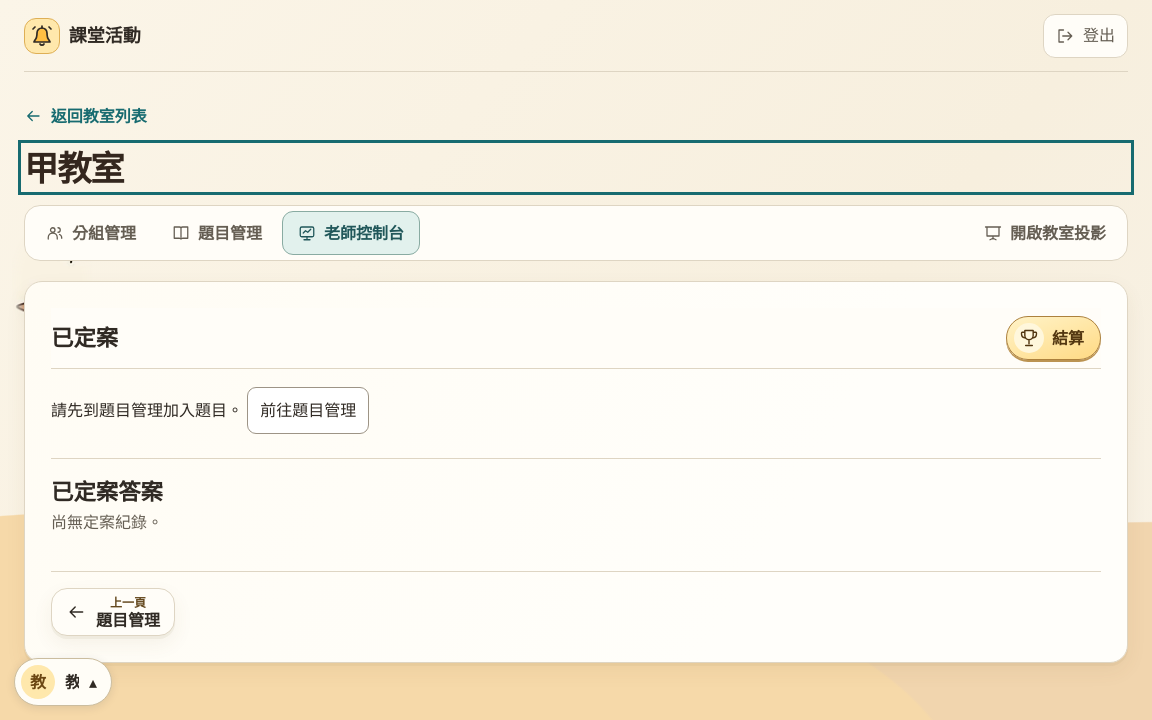
Scenario: Google 回填中不能換場，拒絕編輯後提示權限並保留結算
Later steps or results of the test are not shown.
What coordinates should you click on to do the following:
click the button "結算"
I would click on:
 (1054, 338)
Its box is [1006,316,1101,360].
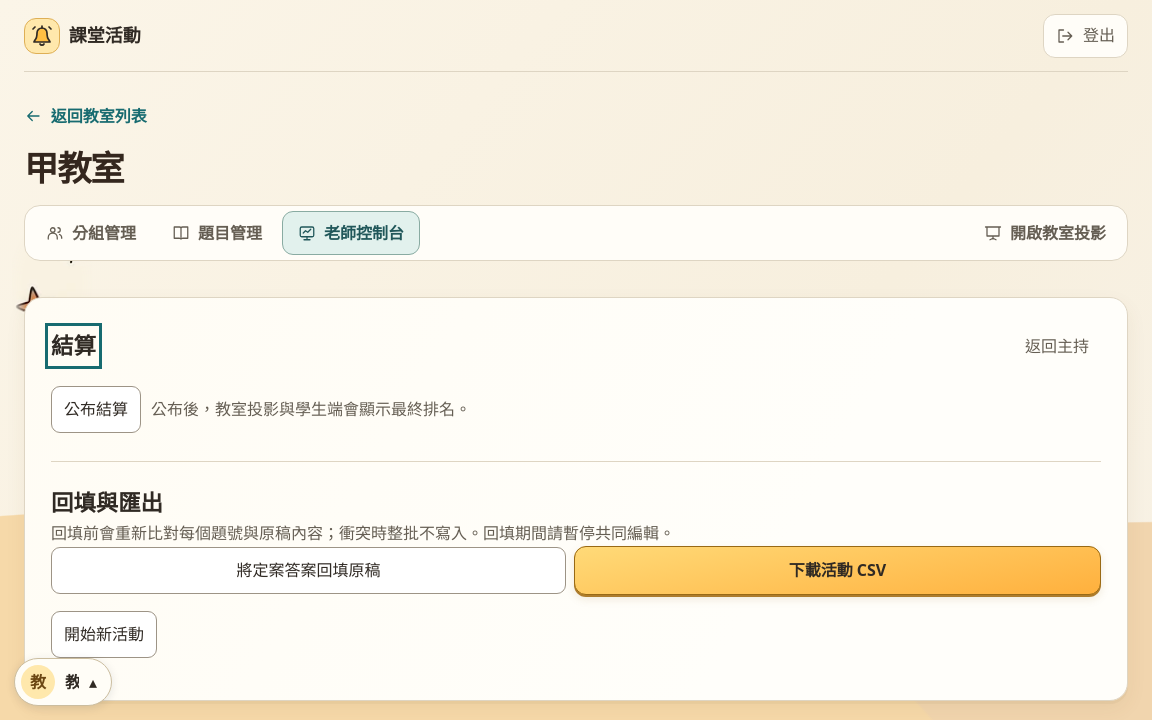
What coordinates should you click on to do the following:
click the button "將定案答案回填原稿"
I would click on:
 (308, 570)
Its box is [51,547,566,594].
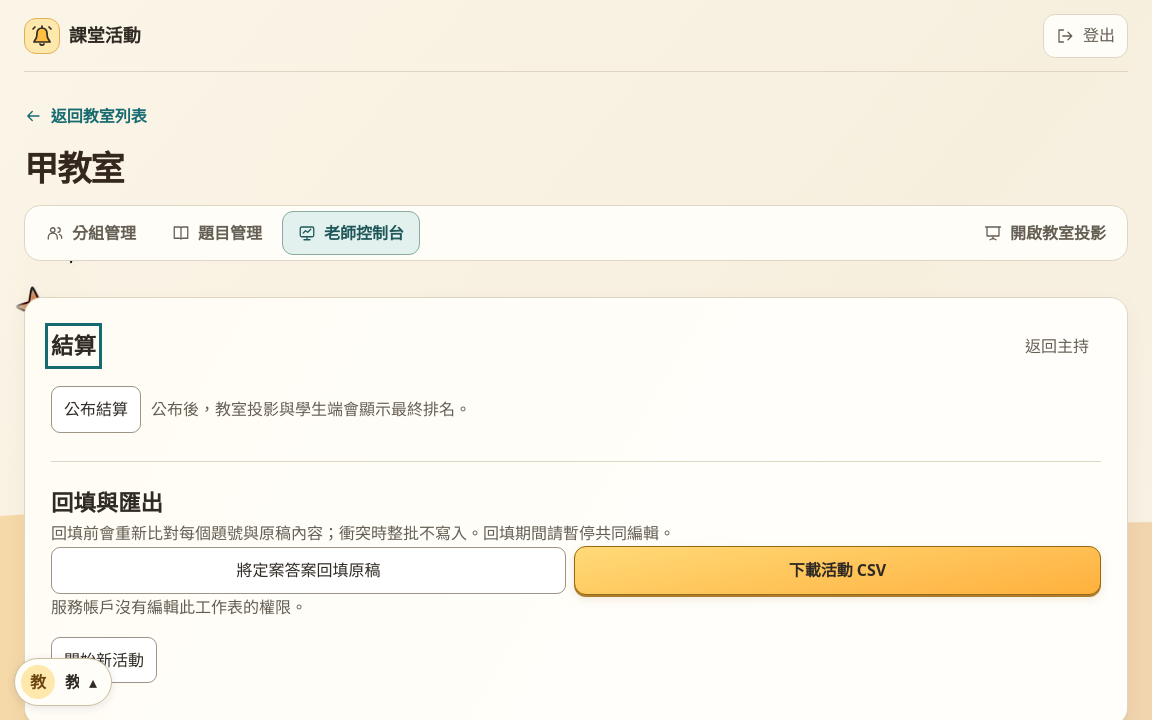
Expected: the text "服務帳戶沒有編輯此工作表的權限" is shown, [51,596,307,618]
